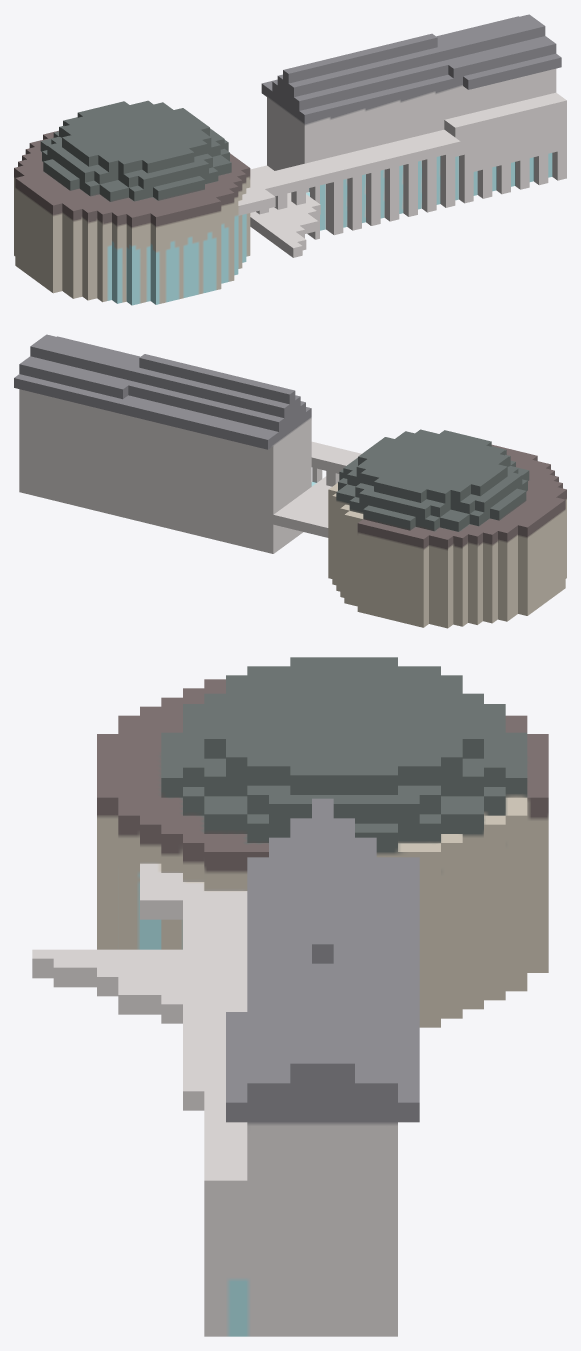
Rendered from kagoshimaarena2.glb.
The picture shows the model from 3 angles, top to bottom: view 1: azimuth 30°, elevation 25°; view 2: azimuth 150°, elevation 25°; view 3: azimuth 270°, elevation 25°; orthographic projection. The views are drawn at different scales.
Visible parts, largest first — view 1: kagoshimaarena2; view 2: kagoshimaarena2; view 3: kagoshimaarena2.
Boxes of the visible parts, x1,y1,x2,y2 form: kagoshimaarena2: [14, 14, 566, 305]; kagoshimaarena2: [14, 334, 566, 628]; kagoshimaarena2: [32, 657, 548, 1336].
Bounding box in the file's own units: 2.16 × 0.6 × 0.96.
Materials: 1 (1 with a texture image).
